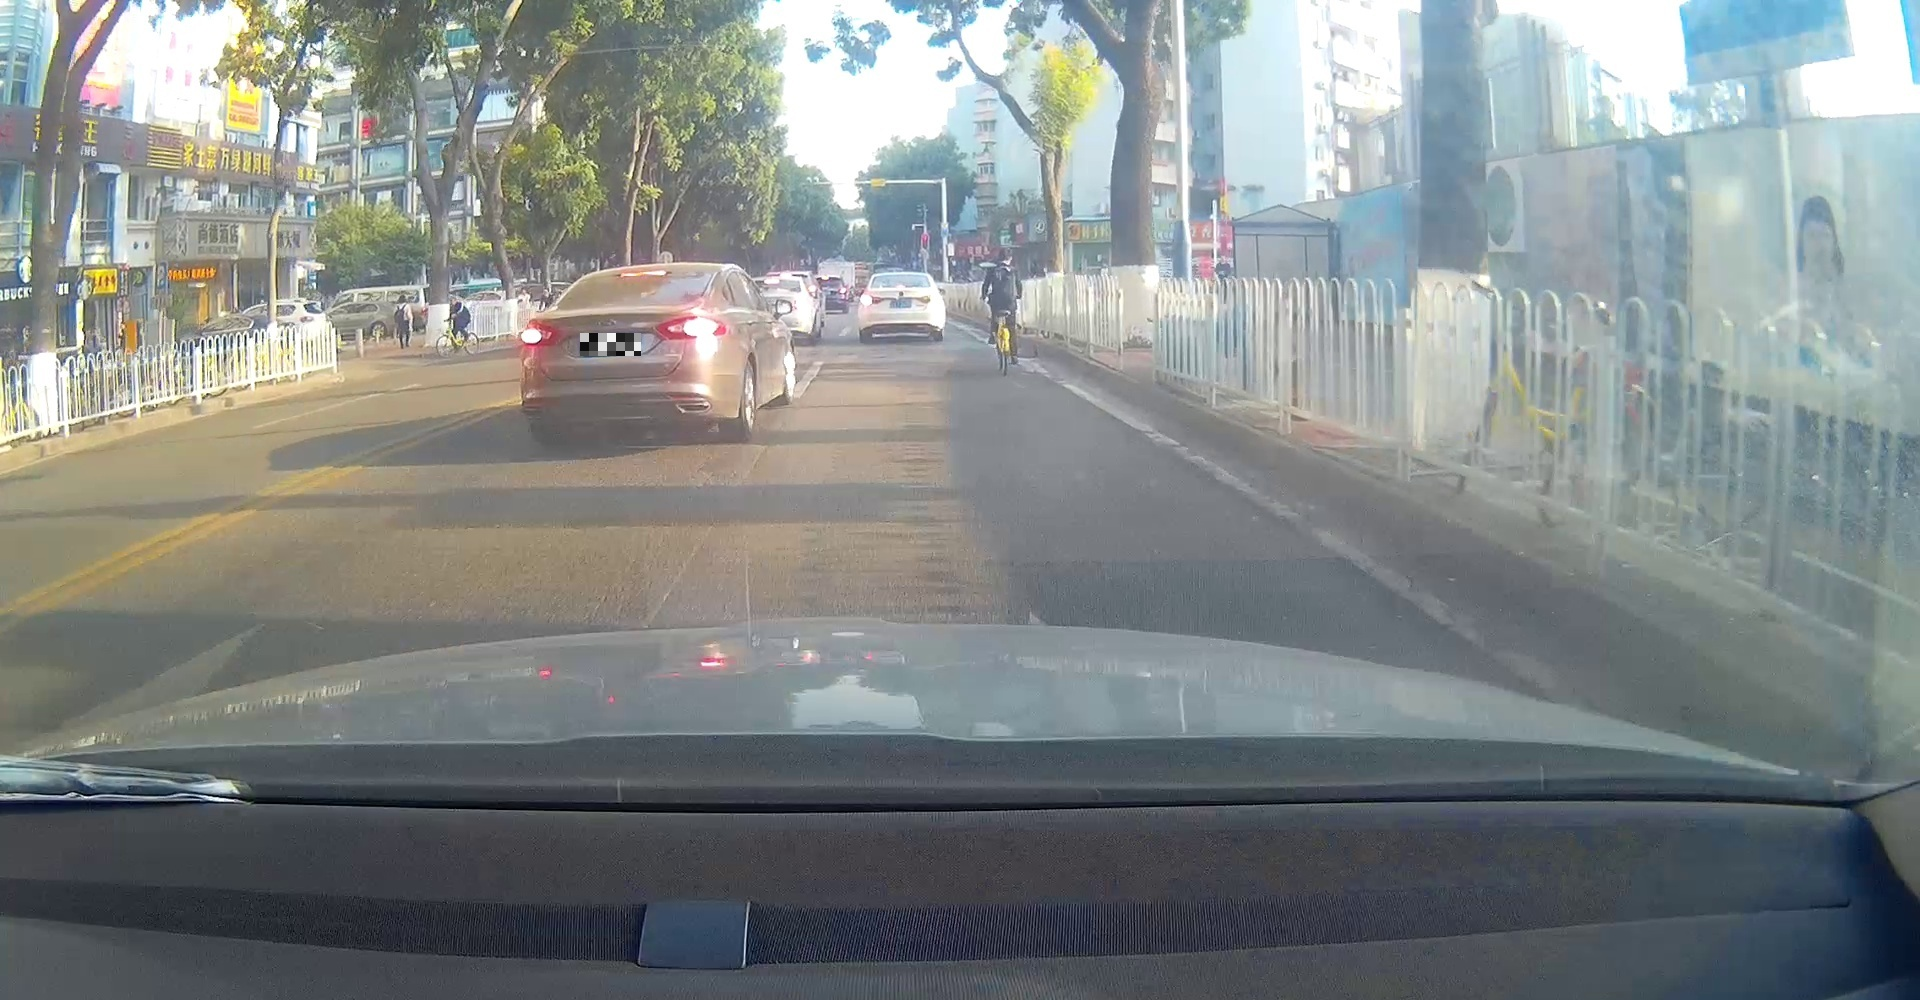L_light: (521, 319, 565, 346), (860, 294, 883, 307)
R_light: (654, 316, 726, 341), (919, 294, 943, 306)
T_light: (617, 268, 668, 279), (895, 284, 907, 288)
day-brake: (521, 261, 729, 445), (858, 272, 943, 343)
plate_1: (580, 332, 641, 357)
